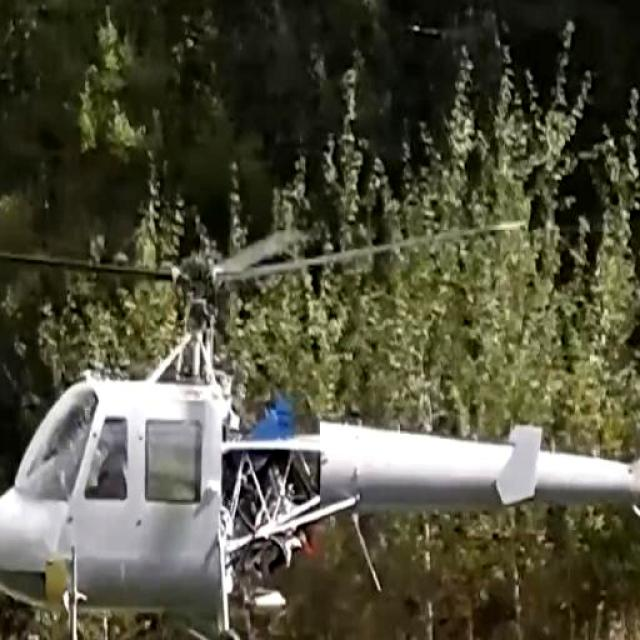drone: (0, 224, 640, 640)
